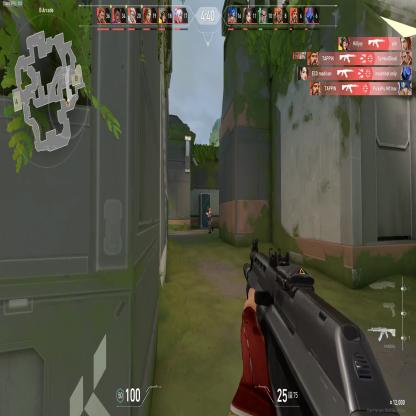enemy: (205, 207, 214, 234)
